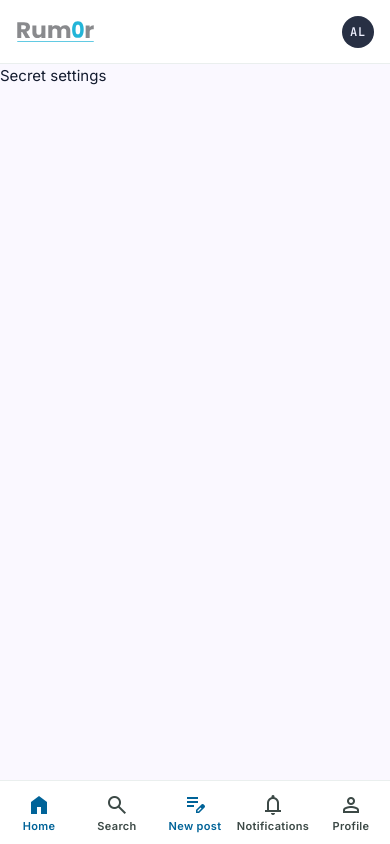
(app) layout, the composer (Part 4) › opens the same composer from the phone's New post tab
Click the button "New post": (195, 812) 156,781 -> 234,843
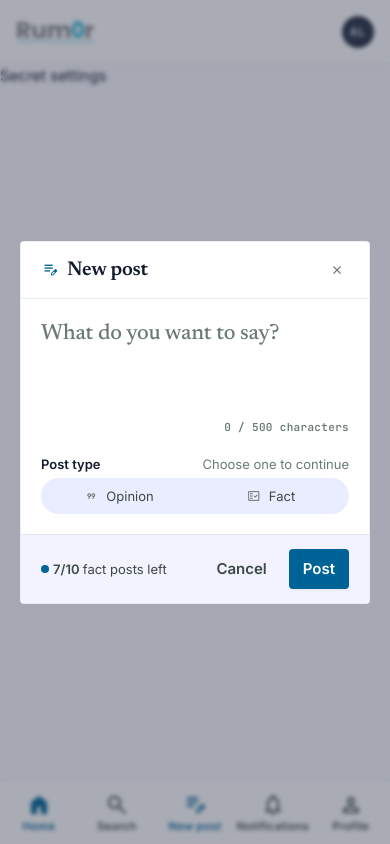
Expected: the dialog "New post" is shown, 20,240 -> 370,604
